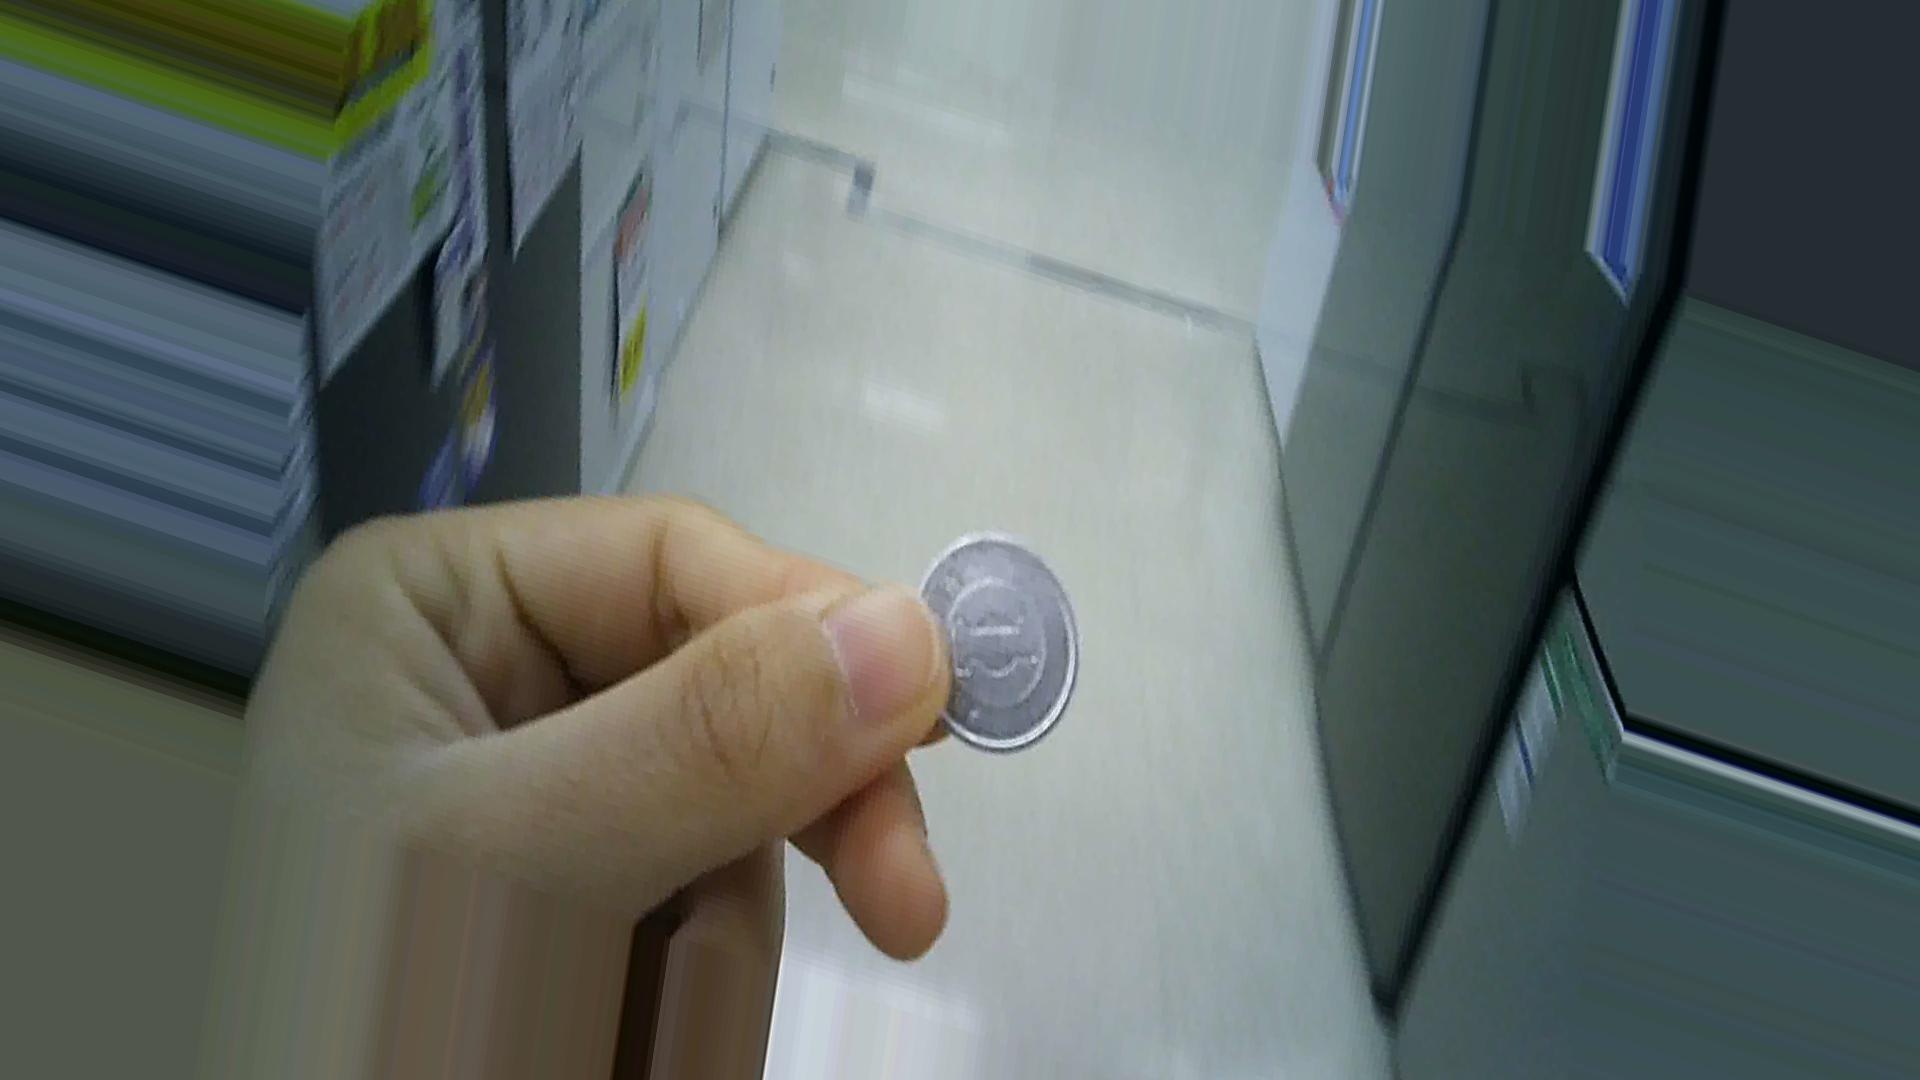1 Yen: (884, 535, 1077, 775)
